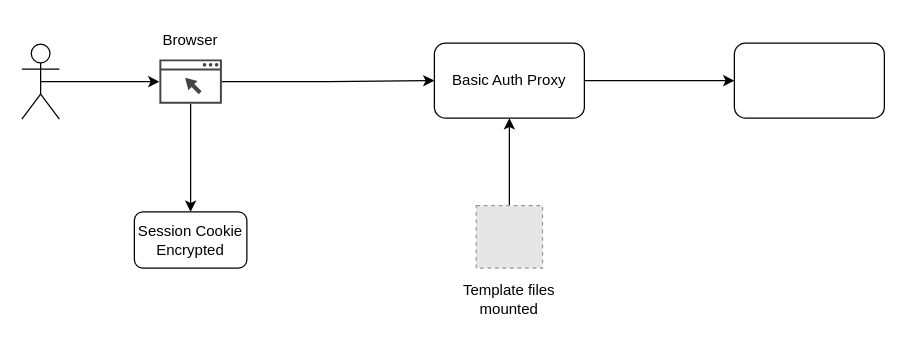
Image size: 906x339. Some labels were removed from this diagram. Grey dashed boxes stand in for pictures. Each missing label, with the centre of its shape:
Legacy Backend Service (with Basic Auth): (x=808, y=80)
User: (x=40, y=81)
